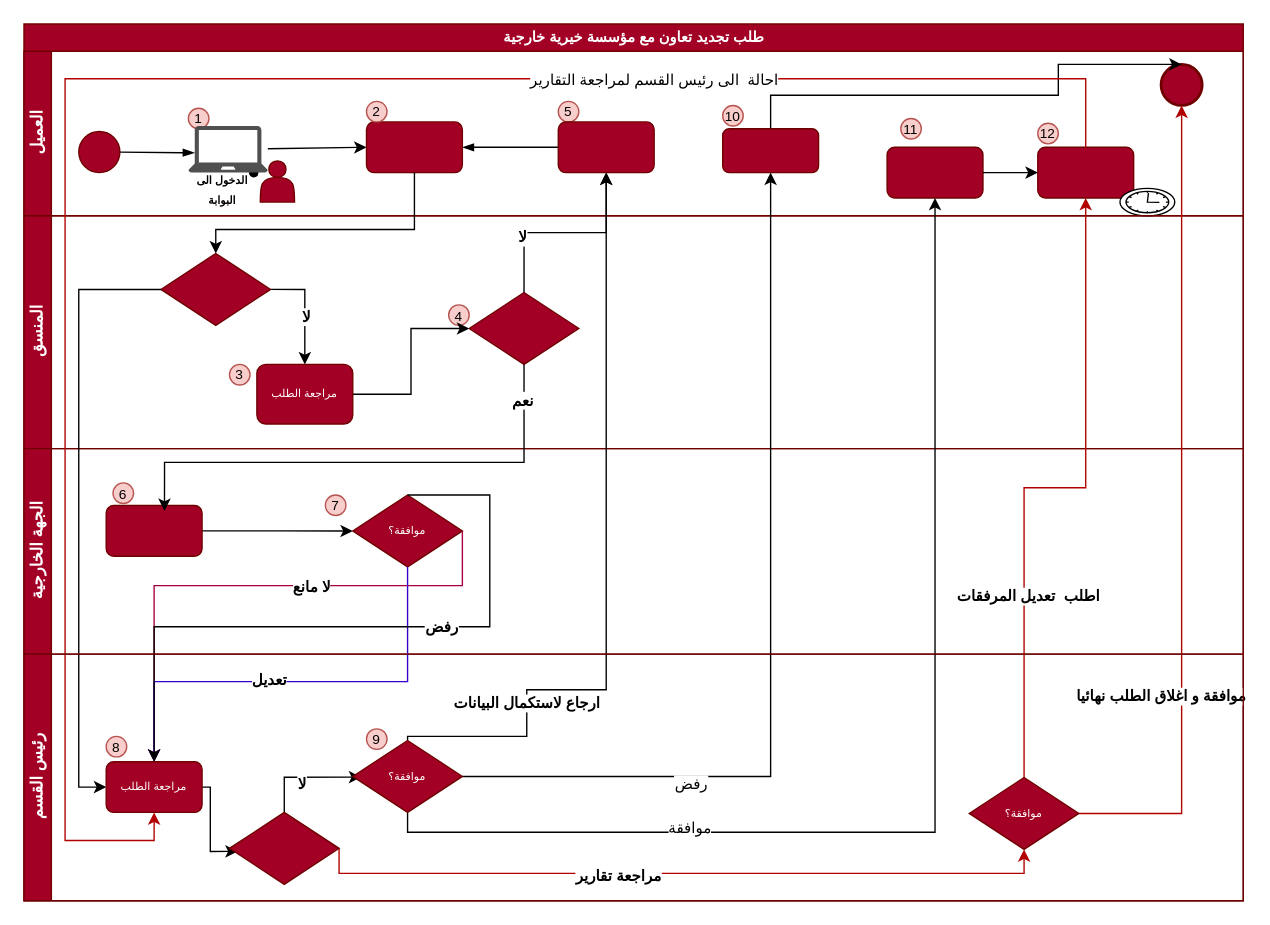
Image size: 1270x925. Some labels were removed from this diagram. Here are the shapes that lost their labels. From the top down, the centre of each, then its label:
At point 1181,84: "اغلاق".
At point 98,151: "بداية".
At point 413,147: "تعبئة وتقديم نموذج الطلب".
At point 605,147: "استكمال البيانات المطلوبة و اعادة الارسال".
At point 770,150: "ارسال رسالة إعتذار".
At point 934,172: "ارسال رسالة موافقة".
At point 1085,172: "يجب ارفاق التقارير بعد انتهاء مدة الطلب".
At point 215,288: "من رئيس القسم؟ في حال مرجع من رئيسر القسم".
At point 523,327: "الطلب مكتمل؟".
At point 153,530: "مراجعة الطلب و اعطاء التوصيات".
At point 283,847: "احالة لمراجعة التقارير؟".
